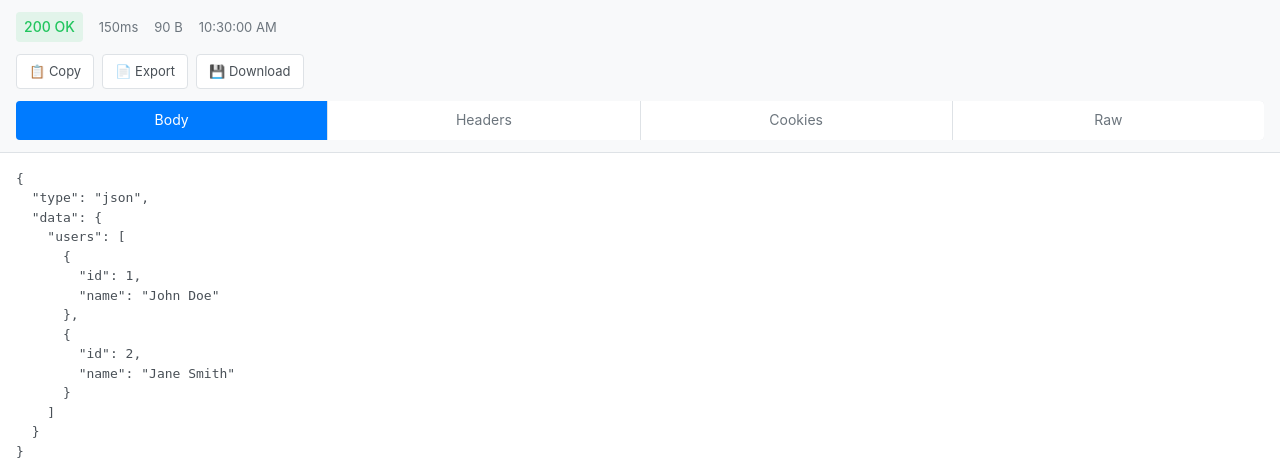
Test: ResponseView › should switch to headers tab when clicked
The width and height of the screenshot is (1280, 475).
Click the button "Headers" at (484, 120), box [328,101,640,140]
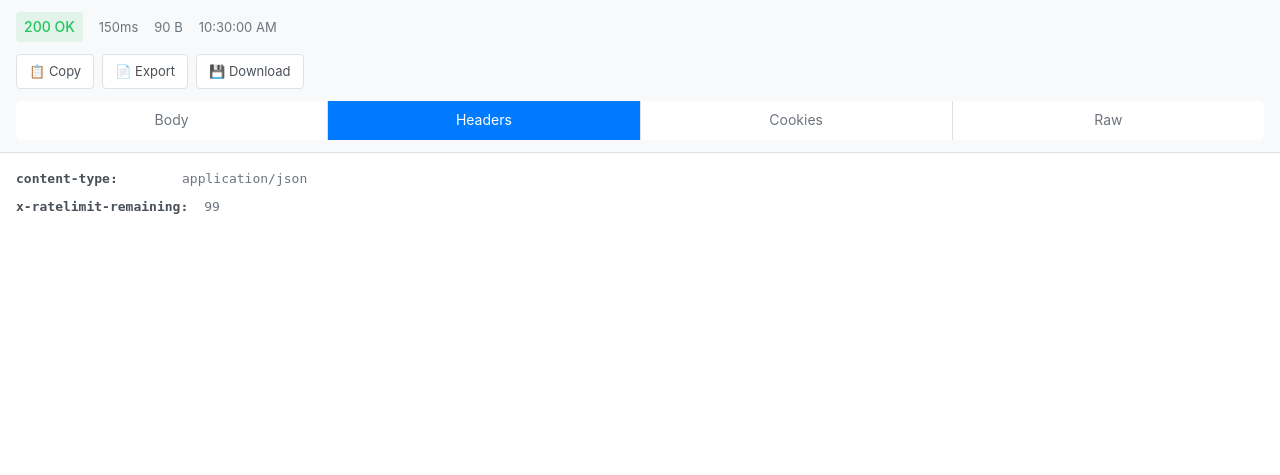
Expected: the text "content-type:" is shown, [16,171,118,186]
Expected: the text "application/json" is shown, [182,171,307,186]
Expected: the text "x-ratelimit-remaining:" is shown, [16,197,188,218]
